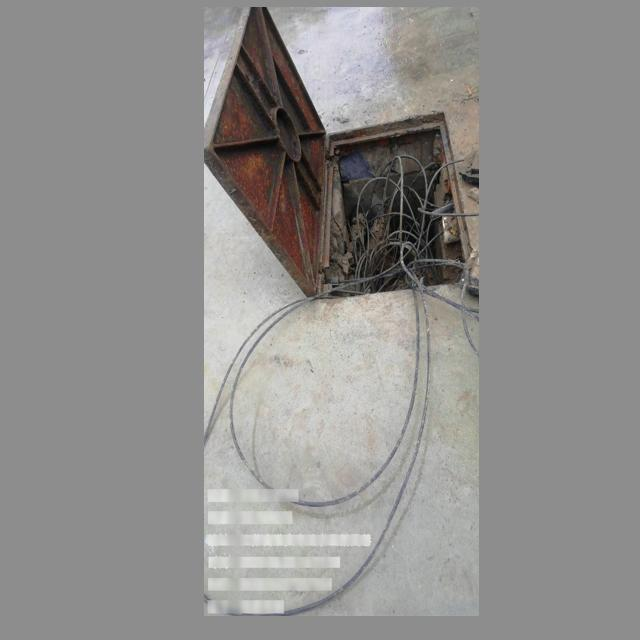uncovered: (207, 10, 479, 302)
